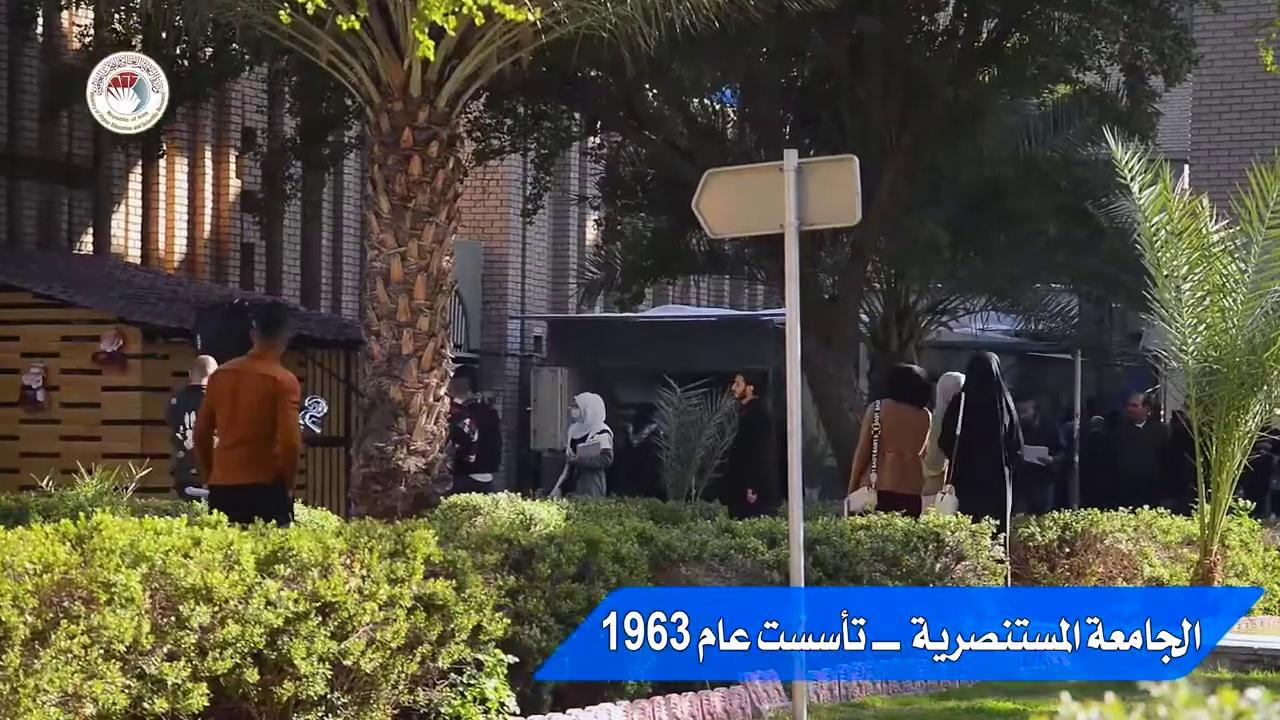person: (192, 298, 302, 528), (846, 362, 932, 519), (164, 354, 219, 501), (442, 363, 501, 494), (550, 391, 615, 499), (722, 373, 760, 519), (621, 403, 665, 499), (17, 361, 50, 412)
tree: (547, 0, 1216, 502), (0, 500, 522, 718), (1082, 121, 1279, 587), (647, 371, 743, 505)
